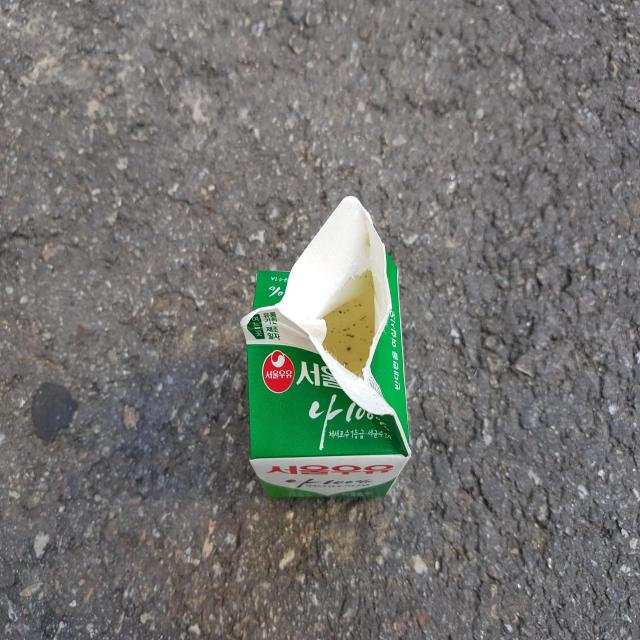paperpack: (241, 196, 411, 498)
